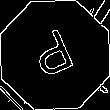P_SE: (28, 24, 82, 86)
